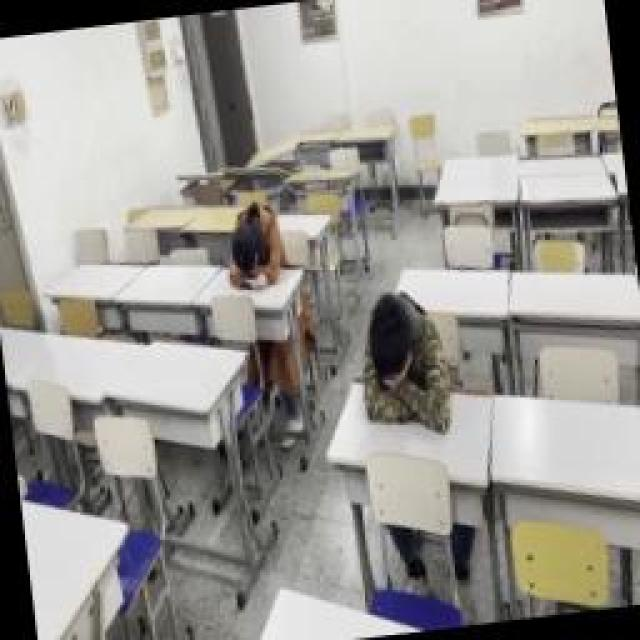sleep: (352, 295, 450, 427), (220, 205, 285, 290)
